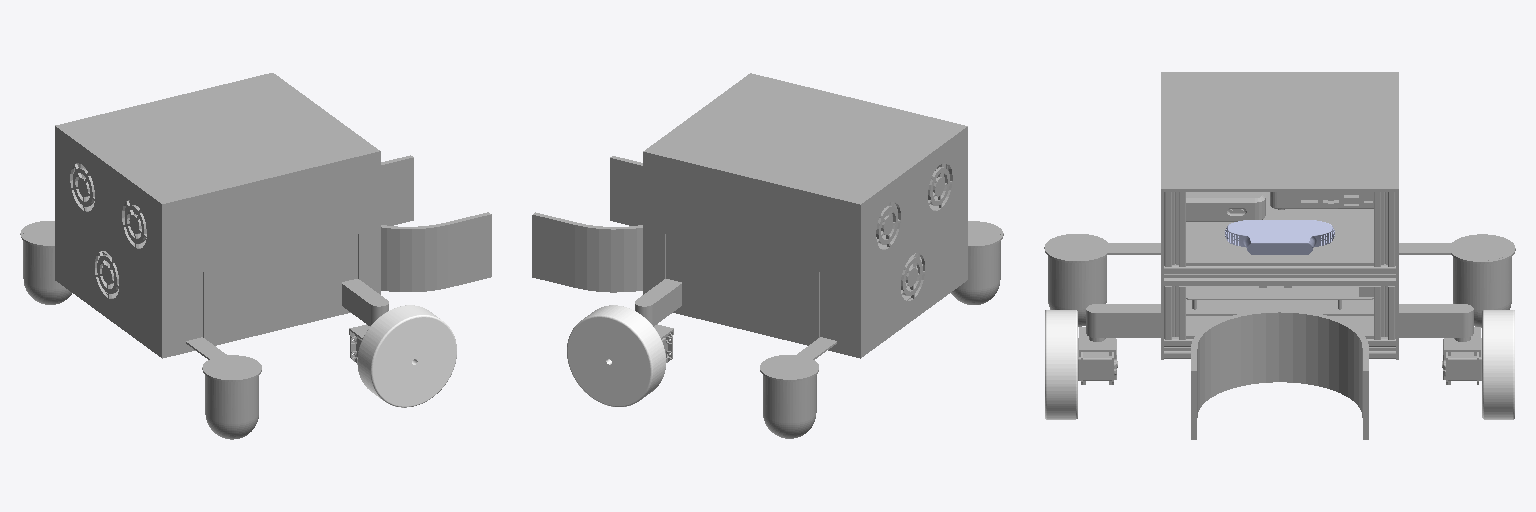
robot.urdf — 4wheel_ball:
<?xml version="1.0" encoding="utf-8"?>
<!-- This URDF was automatically created by SolidWorks to URDF Exporter! Originally created by [author] ([email redacted]) 
     Commit Version: 1.5.1-0-g916b5db  Build Version: 1.5.7152.31018
     For more information, please see http://wiki.ros.org/sw_urdf_exporter -->
<robot
  name="4wheel_ball">
  <link
    name="base_link">
    <inertial>
      <origin
        xyz="-0.142291268345538 0.108885138044595 0.08156562606571"
        rpy="0 0 0" />
      <mass
        value="5.32485366509132" />
      <inertia
        ixx="0.0149048926646327"
        ixy="-1.47975198131889E-06"
        ixz="-8.06521337684515E-06"
        iyy="0.0219378727233068"
        iyz="-4.01751561825294E-06"
        izz="0.0232029020939229" />
    </inertial>
    <visual>
      <origin
        xyz="0 0 0"
        rpy="0 0 0" />
      <geometry>
        <mesh
          filename="package://4wheel_ball/meshes/base_link.STL" />
      </geometry>
      <material
        name="">
        <color
          rgba="0.752941176470588 0.752941176470588 0.752941176470588 1" />
      </material>
    </visual>
    <collision>
      <origin
        xyz="0 0 0"
        rpy="0 0 0" />
      <geometry>
        <mesh
          filename="package://4wheel_ball/meshes/base_link.STL" />
      </geometry>
    </collision>
  </link>
  <link
    name="right_front_suspension">
    <inertial>
      <origin
        xyz="0.072447 -0.0024231 -0.066755"
        rpy="0 0 0" />
      <mass
        value="0.26437" />
      <inertia
        ixx="3.2075E-05"
        ixy="1.4412E-07"
        ixz="6.3085E-08"
        iyy="6.227E-05"
        iyz="-2.0189E-07"
        izz="6.2852E-05" />
    </inertial>
    <visual>
      <origin
        xyz="0 0 0"
        rpy="0 0 0" />
      <geometry>
        <mesh
          filename="package://4wheel_ball/meshes/right_front_suspension.STL" />
      </geometry>
      <material
        name="">
        <color
          rgba="0.75294 0.75294 0.75294 1" />
      </material>
    </visual>
    <collision>
      <origin
        xyz="0 0 0"
        rpy="0 0 0" />
      <geometry>
        <mesh
          filename="package://4wheel_ball/meshes/right_front_suspension.STL" />
      </geometry>
    </collision>
  </link>
  <joint
    name="right_front_suspension"
    type="prismatic">
    <origin
      xyz="-0.012128 -0.10492 -0.047207"
      rpy="2.834 0 1.5708" />
    <parent
      link="base_link" />
    <child
      link="right_front_suspension" />
    <axis
      xyz="0 0.3028 -0.95305" />
    <limit
      lower="0"
      upper="0"
      effort="0"
      velocity="0" />
  </joint>
  <link
    name="right_front_wheel">
    <inertial>
      <origin
        xyz="0.014171 0 -1.3878E-17"
        rpy="0 0 0" />
      <mass
        value="0.23877" />
      <inertia
        ixx="0.00029907"
        ixy="-3.9522E-37"
        ixz="6.92E-37"
        iyy="0.00016737"
        iyz="-8.4703E-22"
        izz="0.00016737" />
    </inertial>
    <visual>
      <origin
        xyz="0 0 0"
        rpy="0 0 0" />
      <geometry>
        <mesh
          filename="package://4wheel_ball/meshes/right_front_wheel.STL" />
      </geometry>
      <material
        name="">
        <color
          rgba="1 1 1 1" />
      </material>
    </visual>
    <collision>
      <origin
        xyz="0 0 0"
        rpy="0 0 0" />
      <geometry>
        <mesh
          filename="package://4wheel_ball/meshes/right_front_wheel.STL" />
      </geometry>
    </collision>
  </link>
  <joint
    name="right_front_wheel"
    type="continuous">
    <origin
      xyz="0 0.00097405 -0.03369"
      rpy="-1.3077 0 0" />
    <parent
      link="right_front_suspension" />
    <child
      link="right_front_wheel" />
    <axis
      xyz="1 0 0" />
    <limit
      effort="3.1"
      velocity="7" />
  </joint>
  <link
    name="left_front_suspension">
    <inertial>
      <origin
        xyz="0.066688 0.0036428 -0.064837"
        rpy="0 0 0" />
      <mass
        value="0.26437" />
      <inertia
        ixx="3.2075E-05"
        ixy="-1.4412E-07"
        ixz="-6.3085E-08"
        iyy="6.227E-05"
        iyz="-2.0189E-07"
        izz="6.2852E-05" />
    </inertial>
    <visual>
      <origin
        xyz="0 0 0"
        rpy="0 0 0" />
      <geometry>
        <mesh
          filename="package://4wheel_ball/meshes/left_front_suspension.STL" />
      </geometry>
      <material
        name="">
        <color
          rgba="0.75294 0.75294 0.75294 1" />
      </material>
    </visual>
    <collision>
      <origin
        xyz="0 0 0"
        rpy="0 0 0" />
      <geometry>
        <mesh
          filename="package://4wheel_ball/meshes/left_front_suspension.STL" />
      </geometry>
    </collision>
  </link>
  <joint
    name="left_front_suspension"
    type="prismatic">
    <origin
      xyz="-0.050812 0.31516 -0.047207"
      rpy="2.834 0 -1.5708" />
    <parent
      link="base_link" />
    <child
      link="left_front_suspension" />
    <axis
      xyz="0 0.3028 -0.95305" />
    <limit
      lower="0"
      upper="0"
      effort="0"
      velocity="0" />
  </joint>
  <link
    name="left_front_wheel">
    <inertial>
      <origin
        xyz="-0.008411 -1.3878E-17 0"
        rpy="0 0 0" />
      <mass
        value="0.23877" />
      <inertia
        ixx="0.00029907"
        ixy="3.5444E-22"
        ixz="-1.8433E-21"
        iyy="0.00016737"
        iyz="6.7763E-21"
        izz="0.00016737" />
    </inertial>
    <visual>
      <origin
        xyz="0 0 0"
        rpy="0 0 0" />
      <geometry>
        <mesh
          filename="package://4wheel_ball/meshes/left_front_wheel.STL" />
      </geometry>
      <material
        name="">
        <color
          rgba="1 1 1 1" />
      </material>
    </visual>
    <collision>
      <origin
        xyz="0 0 0"
        rpy="0 0 0" />
      <geometry>
        <mesh
          filename="package://4wheel_ball/meshes/left_front_wheel.STL" />
      </geometry>
    </collision>
  </link>
  <joint
    name="left_front_wheel"
    type="continuous">
    <origin
      xyz="0 -0.018219 -0.039786"
      rpy="-0.026787 0 3.1416" />
    <parent
      link="left_front_suspension" />
    <child
      link="left_front_wheel" />
    <axis
      xyz="1 0 0" />
    <limit
      effort="3.1"
      velocity="7" />
  </joint>
  <link
    name="right_back_suspension">
    <inertial>
      <origin
        xyz="-0.0067868 0.020675 0.059195"
        rpy="0 0 0" />
      <mass
        value="0.11411" />
      <inertia
        ixx="7.8941E-05"
        ixy="5.5532E-22"
        ixz="1.1472E-06"
        iyy="5.1512E-05"
        iyz="5.8797E-21"
        izz="7.839E-05" />
    </inertial>
    <visual>
      <origin
        xyz="0 0 0"
        rpy="0 0 0" />
      <geometry>
        <mesh
          filename="package://4wheel_ball/meshes/right_back_suspension.STL" />
      </geometry>
      <material
        name="">
        <color
          rgba="0.75294 0.75294 0.75294 1" />
      </material>
    </visual>
    <collision>
      <origin
        xyz="0 0 0"
        rpy="0 0 0" />
      <geometry>
        <mesh
          filename="package://4wheel_ball/meshes/right_back_suspension.STL" />
      </geometry>
    </collision>
  </link>
  <joint
    name="right_back_suspension"
    type="prismatic">
    <origin
      xyz="-0.24766 -0.12539 0"
      rpy="-1.5708 0 -0.67945" />
    <parent
      link="base_link" />
    <child
      link="right_back_suspension" />
    <axis
      xyz="0 1 0" />
    <limit
      lower="0"
      upper="0"
      effort="0"
      velocity="0" />
  </joint>
  <link
    name="left_back_suspension">
    <inertial>
      <origin
        xyz="-0.0067868 0.020675 0.059195"
        rpy="0 0 0" />
      <mass
        value="0.11411" />
      <inertia
        ixx="7.8941E-05"
        ixy="1.7655E-21"
        ixz="1.1472E-06"
        iyy="5.1512E-05"
        iyz="3.4905E-21"
        izz="7.839E-05" />
    </inertial>
    <visual>
      <origin
        xyz="0 0 0"
        rpy="0 0 0" />
      <geometry>
        <mesh
          filename="package://4wheel_ball/meshes/left_back_suspension.STL" />
      </geometry>
      <material
        name="">
        <color
          rgba="0.75294 0.75294 0.75294 1" />
      </material>
    </visual>
    <collision>
      <origin
        xyz="0 0 0"
        rpy="0 0 0" />
      <geometry>
        <mesh
          filename="package://4wheel_ball/meshes/left_back_suspension.STL" />
      </geometry>
    </collision>
  </link>
  <joint
    name="left_back_suspension"
    type="prismatic">
    <origin
      xyz="-0.18234 0.34139 0"
      rpy="-1.5708 0 2.4621" />
    <parent
      link="base_link" />
    <child
      link="left_back_suspension" />
    <axis
      xyz="0 1 0" />
    <limit
      lower="0"
      upper="0"
      effort="0"
      velocity="0" />
  </joint>
  <link
    name="cam1">
    <inertial>
      <origin
        xyz="0.049836 0.061784 0.068723"
        rpy="0 0 0" />
      <mass
        value="0.043612" />
      <inertia
        ixx="4.2948E-06"
        ixy="-8.8548E-10"
        ixz="-1.0183E-09"
        iyy="2.2106E-05"
        iyz="2.1758E-08"
        izz="2.3571E-05" />
    </inertial>
    <visual>
      <origin
        xyz="0 0 0"
        rpy="0 0 0" />
      <geometry>
        <mesh
          filename="package://4wheel_ball/meshes/cam1.STL" />
      </geometry>
      <material
        name="">
        <color
          rgba="0.79216 0.81961 0.93333 1" />
      </material>
    </visual>
    <collision>
      <origin
        xyz="0 0 0"
        rpy="0 0 0" />
      <geometry>
        <mesh
          filename="package://4wheel_ball/meshes/cam1.STL" />
      </geometry>
    </collision>
  </link>
  <joint
    name="cam1"
    type="fixed">
    <origin
      xyz="-0.10428 0.058165 0.12322"
      rpy="2.3562 0 1.5708" />
    <parent
      link="base_link" />
    <child
      link="cam1" />
    <axis
      xyz="0 0 0" />
  </joint>
  <link
    name="cam2">
    <inertial>
      <origin
        xyz="0.051723 0.061784 0.068723"
        rpy="0 0 0" />
      <mass
        value="0.043612" />
      <inertia
        ixx="4.2948E-06"
        ixy="-8.8579E-10"
        ixz="-1.0181E-09"
        iyy="2.2106E-05"
        iyz="2.1758E-08"
        izz="2.3571E-05" />
    </inertial>
    <visual>
      <origin
        xyz="0 0 0"
        rpy="0 0 0" />
      <geometry>
        <mesh
          filename="package://4wheel_ball/meshes/cam2.STL" />
      </geometry>
      <material
        name="">
        <color
          rgba="0.79216 0.81961 0.93333 1" />
      </material>
    </visual>
    <collision>
      <origin
        xyz="0 0 0"
        rpy="0 0 0" />
      <geometry>
        <mesh
          filename="package://4wheel_ball/meshes/cam2.STL" />
      </geometry>
    </collision>
  </link>
  <joint
    name="cam2"
    type="prismatic">
    <origin
      xyz="-0.080078 0.038079 0.092502"
      rpy="1.5708 0 1.5708" />
    <parent
      link="base_link" />
    <child
      link="cam2" />
    <axis
      xyz="1 0 0" />
    <limit
      lower="0"
      upper="0"
      effort="0"
      velocity="0" />
  </joint>
  <link
    name="lidar">
    <inertial>
      <origin
        xyz="-0.09228 0.74443 0.065856"
        rpy="0 0 0" />
      <mass
        value="0.073085" />
      <inertia
        ixx="1.9581E-05"
        ixy="-4.284E-07"
        ixz="1.0393E-07"
        iyy="4.1418E-05"
        iyz="-9.4012E-09"
        izz="2.4125E-05" />
    </inertial>
    <visual>
      <origin
        xyz="0 0 0"
        rpy="0 0 0" />
      <geometry>
        <mesh
          filename="package://4wheel_ball/meshes/lidar.STL" />
      </geometry>
      <material
        name="">
        <color
          rgba="0.79216 0.81961 0.93333 1" />
      </material>
    </visual>
    <collision>
      <origin
        xyz="0 0 0"
        rpy="0 0 0" />
      <geometry>
        <mesh
          filename="package://4wheel_ball/meshes/lidar.STL" />
      </geometry>
    </collision>
  </link>
  <joint
    name="lidar"
    type="prismatic">
    <origin
      xyz="-0.1518 0.076069 -0.5487"
      rpy="1.5708 0 2.9404" />
    <parent
      link="base_link" />
    <child
      link="lidar" />
    <axis
      xyz="0.19986 0 0.97983" />
    <limit
      lower="0"
      upper="0"
      effort="0"
      velocity="0" />
  </joint>
</robot>

--- Render facts (derived) ---
The picture shows the robot from 3 angles, left to right: view 1: azimuth 30°, elevation 25°; view 2: azimuth 150°, elevation 25°; view 3: azimuth 270°, elevation 25°; orthographic projection.
Robot: 4wheel_ball — 10 links, 9 joints (2 continuous, 6 prismatic, 1 fixed); root link base_link; default pose: all joints at 0.
Links seen in each view (by area): view 1: base_link, right_front_wheel, right_back_suspension, left_back_suspension, right_front_suspension; view 2: base_link, left_front_wheel, left_back_suspension, right_back_suspension, left_front_suspension; view 3: base_link, right_back_suspension, left_back_suspension, right_front_suspension, left_front_suspension, right_front_wheel, left_front_wheel, cam1.
Boxes of the visible links, x1,y1,x2,y2 form: base_link: (55,73,491,358); right_front_wheel: (357,305,456,407); right_back_suspension: (186,337,261,439); left_back_suspension: (20,221,71,304); right_front_suspension: (342,279,388,362); base_link: (532,73,967,358); left_front_wheel: (567,305,665,406); left_back_suspension: (760,337,836,438); right_back_suspension: (951,221,1003,304); left_front_suspension: (635,279,681,362); base_link: (1161,72,1398,439); right_back_suspension: (1044,234,1160,326); left_back_suspension: (1399,234,1515,327); right_front_suspension: (1078,304,1160,384); left_front_suspension: (1399,304,1481,384); right_front_wheel: (1045,310,1077,419); left_front_wheel: (1482,310,1514,419); cam1: (1225,220,1334,254).
Size in the robot's own frame: 0.3973 by 0.428 by 0.2358 metres.
8 mesh visuals loaded from 10 distinct referenced files (8 binary STL); not drawn: 2 (reference not matched to a file when rendering).